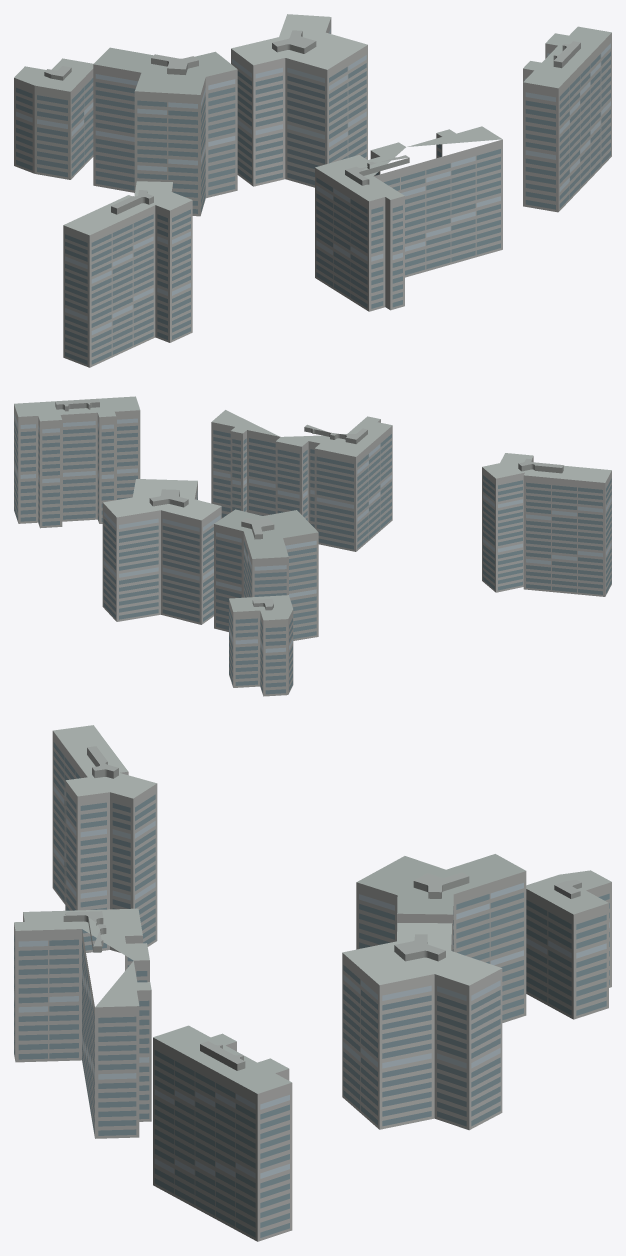
Rendered from apt-a14272313.glb.
3 views of the same model, one above another, from view 1: azimuth 30°, elevation 25°; view 2: azimuth 150°, elevation 25°; view 3: azimuth 270°, elevation 25° (orthographic). The views are drawn at different scales.
Parts seen in each view (by area): view 1: apt-a14272313; view 2: apt-a14272313; view 3: apt-a14272313.
Part boxes in pixels (<box>): apt-a14272313: <box>14,14,611,367</box>; apt-a14272313: <box>14,396,611,696</box>; apt-a14272313: <box>14,725,611,1241</box>.
Bounding box in the file's own units: 224 × 48 × 157.
